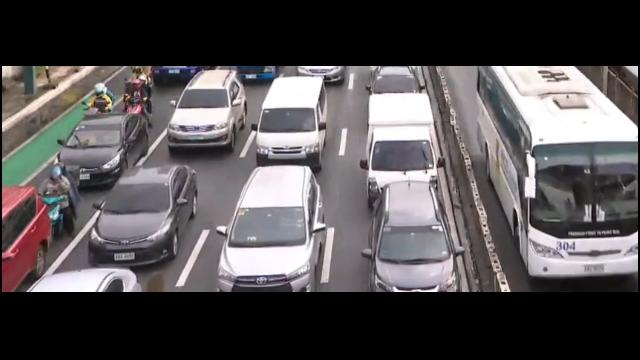bus: (465, 64, 639, 289)
car: (225, 168, 325, 288), (366, 182, 462, 290), (93, 167, 199, 263), (54, 116, 151, 188), (167, 73, 245, 152), (0, 182, 51, 289), (366, 65, 428, 96), (298, 67, 346, 85)
motorcycle: (37, 164, 78, 239), (123, 79, 154, 130), (81, 82, 112, 126)
van: (362, 93, 442, 211), (256, 78, 327, 168)
